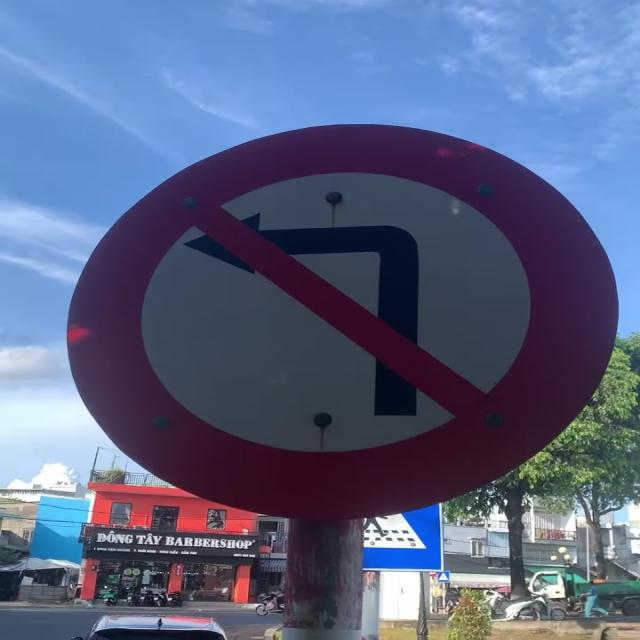Cam_Re_Trai: (68, 122, 612, 533)
